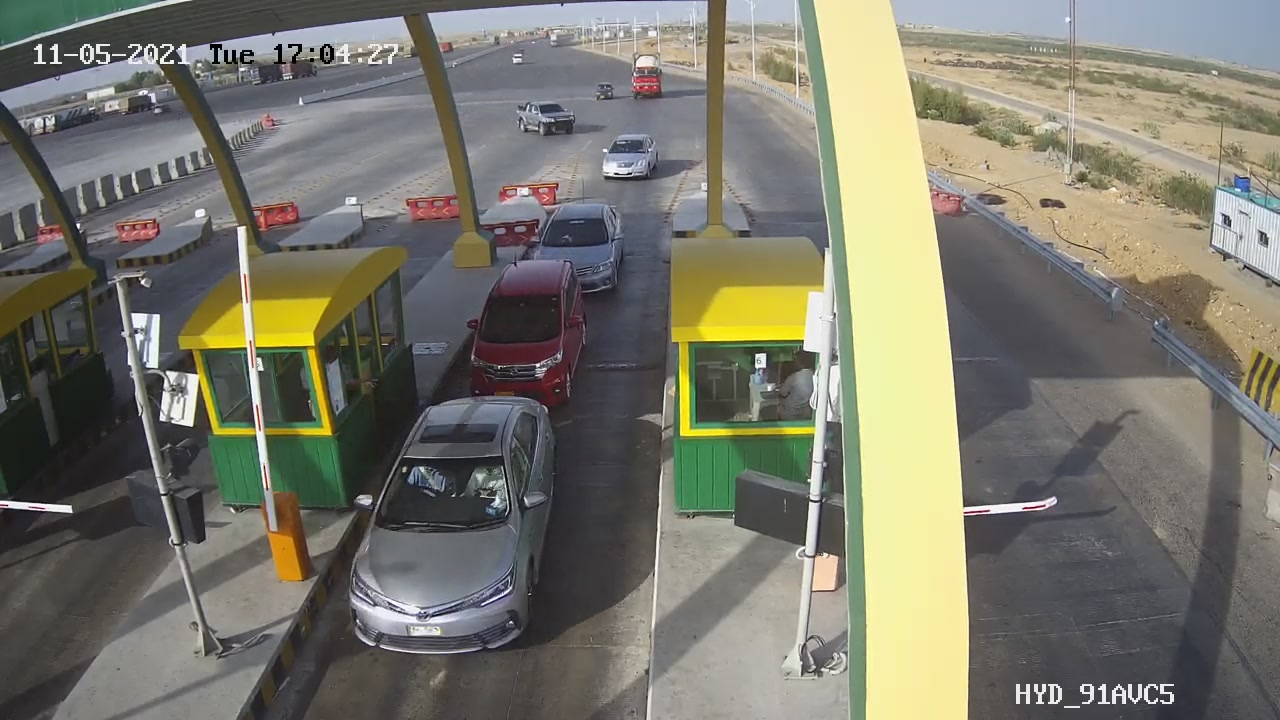F1: (451, 247, 609, 433)
